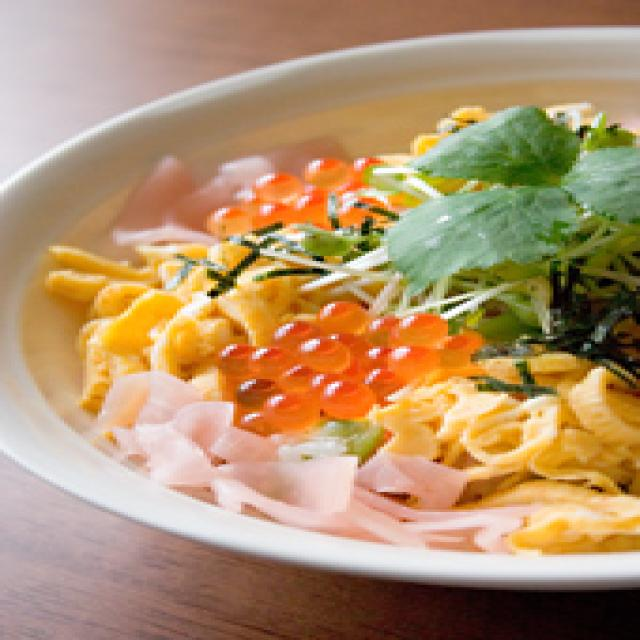寿司卷物: (0, 32, 640, 618)
